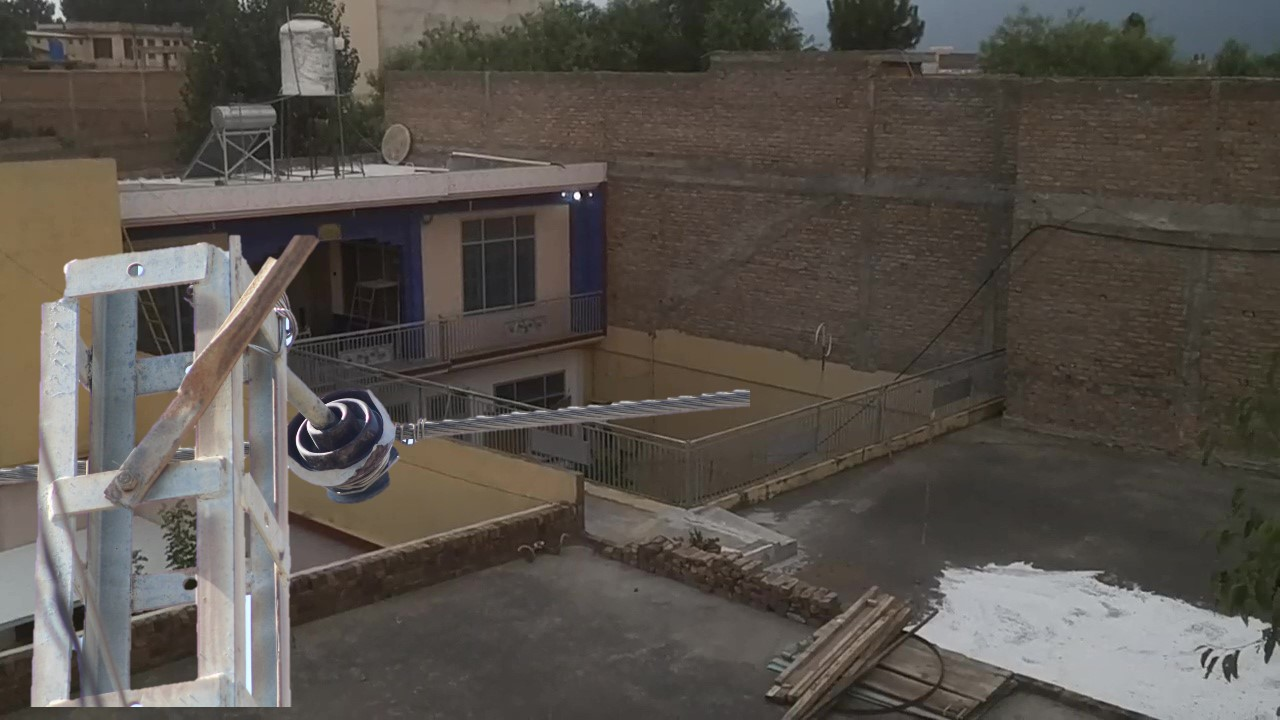defect_pin: (288, 385, 409, 508)
